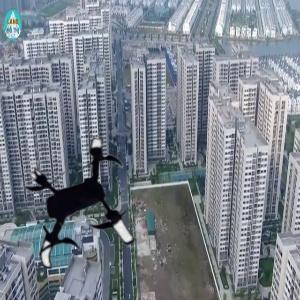drone: (13, 140, 156, 283)
